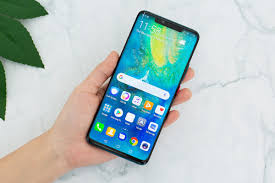huawei: (82, 3, 202, 166)
